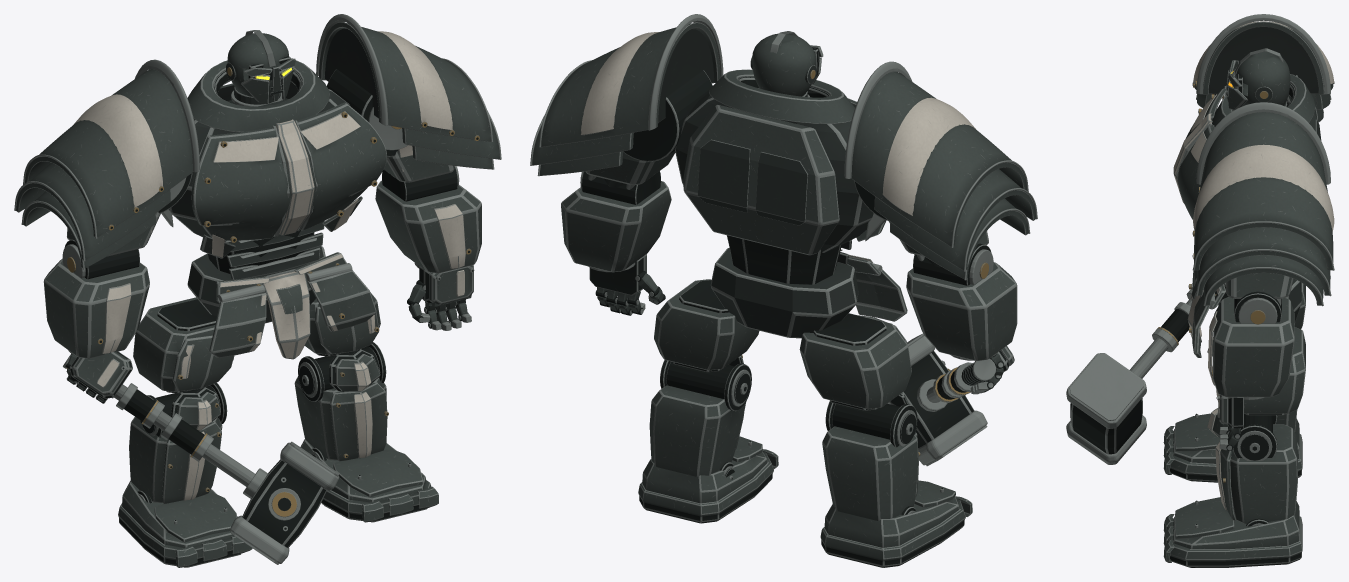
The model's file is tank-t3-warden-v1.glb.
3 renders of one model, left to right at view 1: azimuth 30°, elevation 25°; view 2: azimuth 150°, elevation 25°; view 3: azimuth 270°, elevation 25°, orthographic. The views are drawn at different scales.
Parts seen in each view (by area): view 1: chest__clay, shoulderR__clay, shoulderL__clay, weaponR__metal, elbowR__clay, kneeL__clay, elbowL__clay, ankleR__clay, pelvis__metal, kneeR__clay, ankleL__clay, shoulderL__metal (+19 smaller); view 2: shoulderR__clay, chest__clay, shoulderL__clay, chest__metal, pelvis__metal, elbowR__clay, kneeR__clay, shoulderL__metal, weaponR__metal, elbowL__clay, kneeL__clay, hipR__clay (+16 smaller); view 3: shoulderL__clay, weaponR__metal, elbowL__clay, ankleL__clay, kneeL__clay, shoulderR__metal, chest__clay, shoulderL__metal, ankleR__clay, head__clay, shoulderR__clay, hipL__clay (+11 smaller).
Boxes of the visible parts, x1,y1,x2,y2 form: chest__clay: [187, 60, 387, 258]; shoulderR__clay: [16, 69, 193, 268]; shoulderL__clay: [319, 22, 499, 182]; weaponR__metal: [63, 354, 339, 564]; elbowR__clay: [43, 258, 149, 358]; kneeL__clay: [294, 354, 387, 461]; elbowL__clay: [375, 180, 481, 273]; ankleR__clay: [118, 480, 252, 567]; pelvis__metal: [187, 221, 352, 323]; kneeR__clay: [129, 392, 222, 503]; ankleL__clay: [300, 439, 438, 522]; shoulderL__metal: [316, 14, 501, 180]; shoulderR__clay: [851, 71, 1035, 278]; chest__clay: [683, 69, 886, 255]; shoulderL__clay: [532, 22, 720, 185]; chest__metal: [674, 76, 885, 252]; pelvis__metal: [710, 235, 882, 338]; elbowR__clay: [906, 262, 1017, 360]; kneeR__clay: [822, 392, 918, 520]; shoulderL__metal: [530, 14, 723, 189]; weaponR__metal: [903, 333, 995, 466]; elbowL__clay: [561, 181, 671, 272]; kneeL__clay: [649, 355, 745, 476]; hipR__clay: [799, 313, 911, 409]; shoulderL__clay: [1193, 112, 1334, 305]; weaponR__metal: [1066, 287, 1192, 464]; elbowL__clay: [1208, 297, 1294, 397]; ankleL__clay: [1163, 497, 1302, 562]; kneeL__clay: [1207, 408, 1297, 524]; shoulderR__metal: [1192, 14, 1334, 112]; chest__clay: [1173, 74, 1317, 219]; shoulderL__metal: [1192, 102, 1334, 306]; ankleR__clay: [1163, 413, 1302, 476]; head__clay: [1228, 51, 1290, 110]; shoulderR__clay: [1193, 21, 1334, 122]; hipL__clay: [1244, 327, 1305, 413].
Bounding box in the file's own units: 3.68 × 3.98 × 2.12.
Materials: 12 (10 with a texture image).
